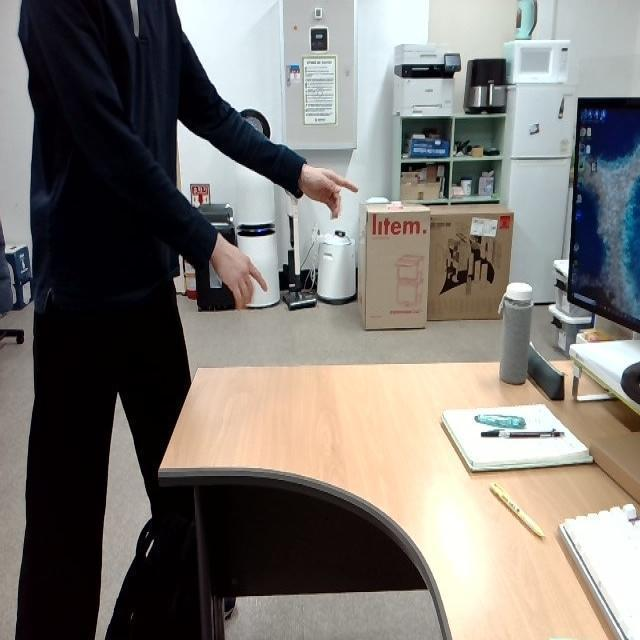bare_hand: (209, 228, 270, 309), (296, 153, 361, 225)
